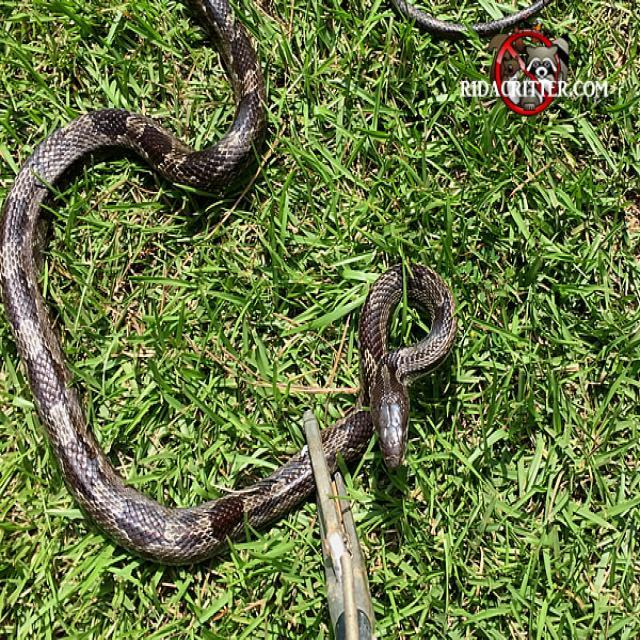Snake: (0, 0, 458, 566)
